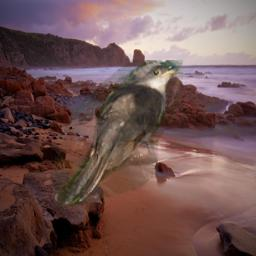Cuckoo: (55, 60, 183, 209)
